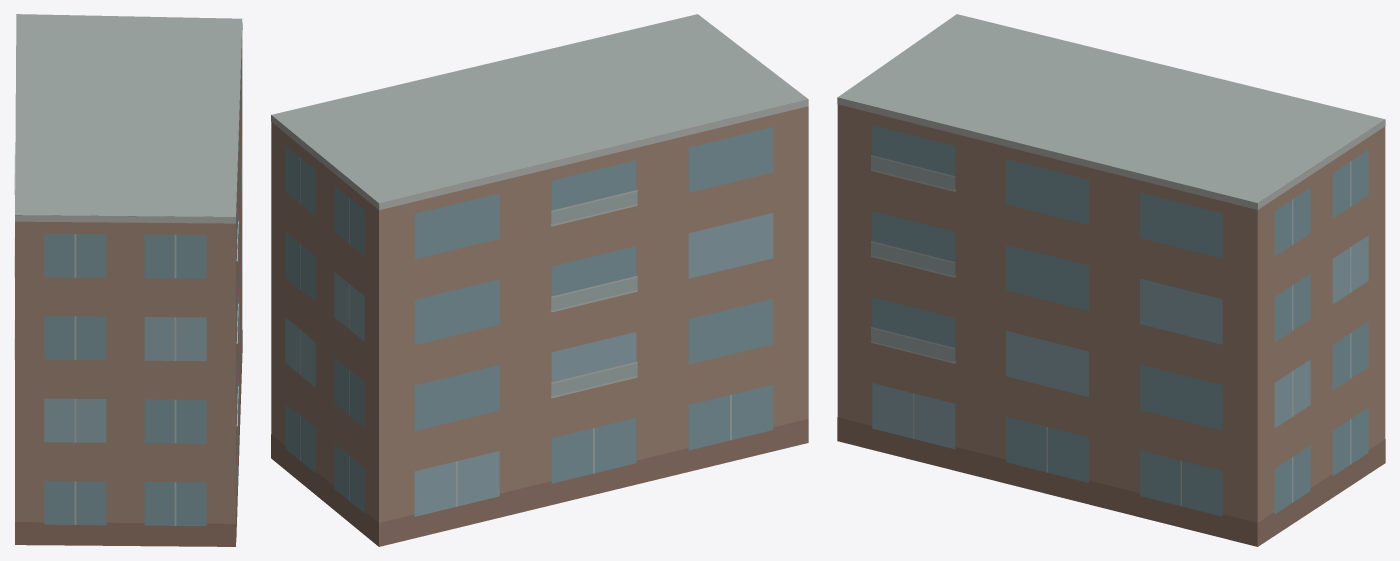
File: survey-upis-32642170.glb
3 renders of one model, left to right at view 1: azimuth 30°, elevation 25°; view 2: azimuth 150°, elevation 25°; view 3: azimuth 270°, elevation 25°, orthographic. The views are drawn at different scales.
Parts seen in each view (by area): view 1: survey-upis-32642170.tmp; view 2: survey-upis-32642170.tmp; view 3: survey-upis-32642170.tmp.
Part boxes in pixels (x1,y1,x2,y2): survey-upis-32642170.tmp: (14,14,242,546); survey-upis-32642170.tmp: (271,14,808,546); survey-upis-32642170.tmp: (837,14,1385,546).
Bounding box in the file's own units: 14.4 × 12.2 × 17.63.
